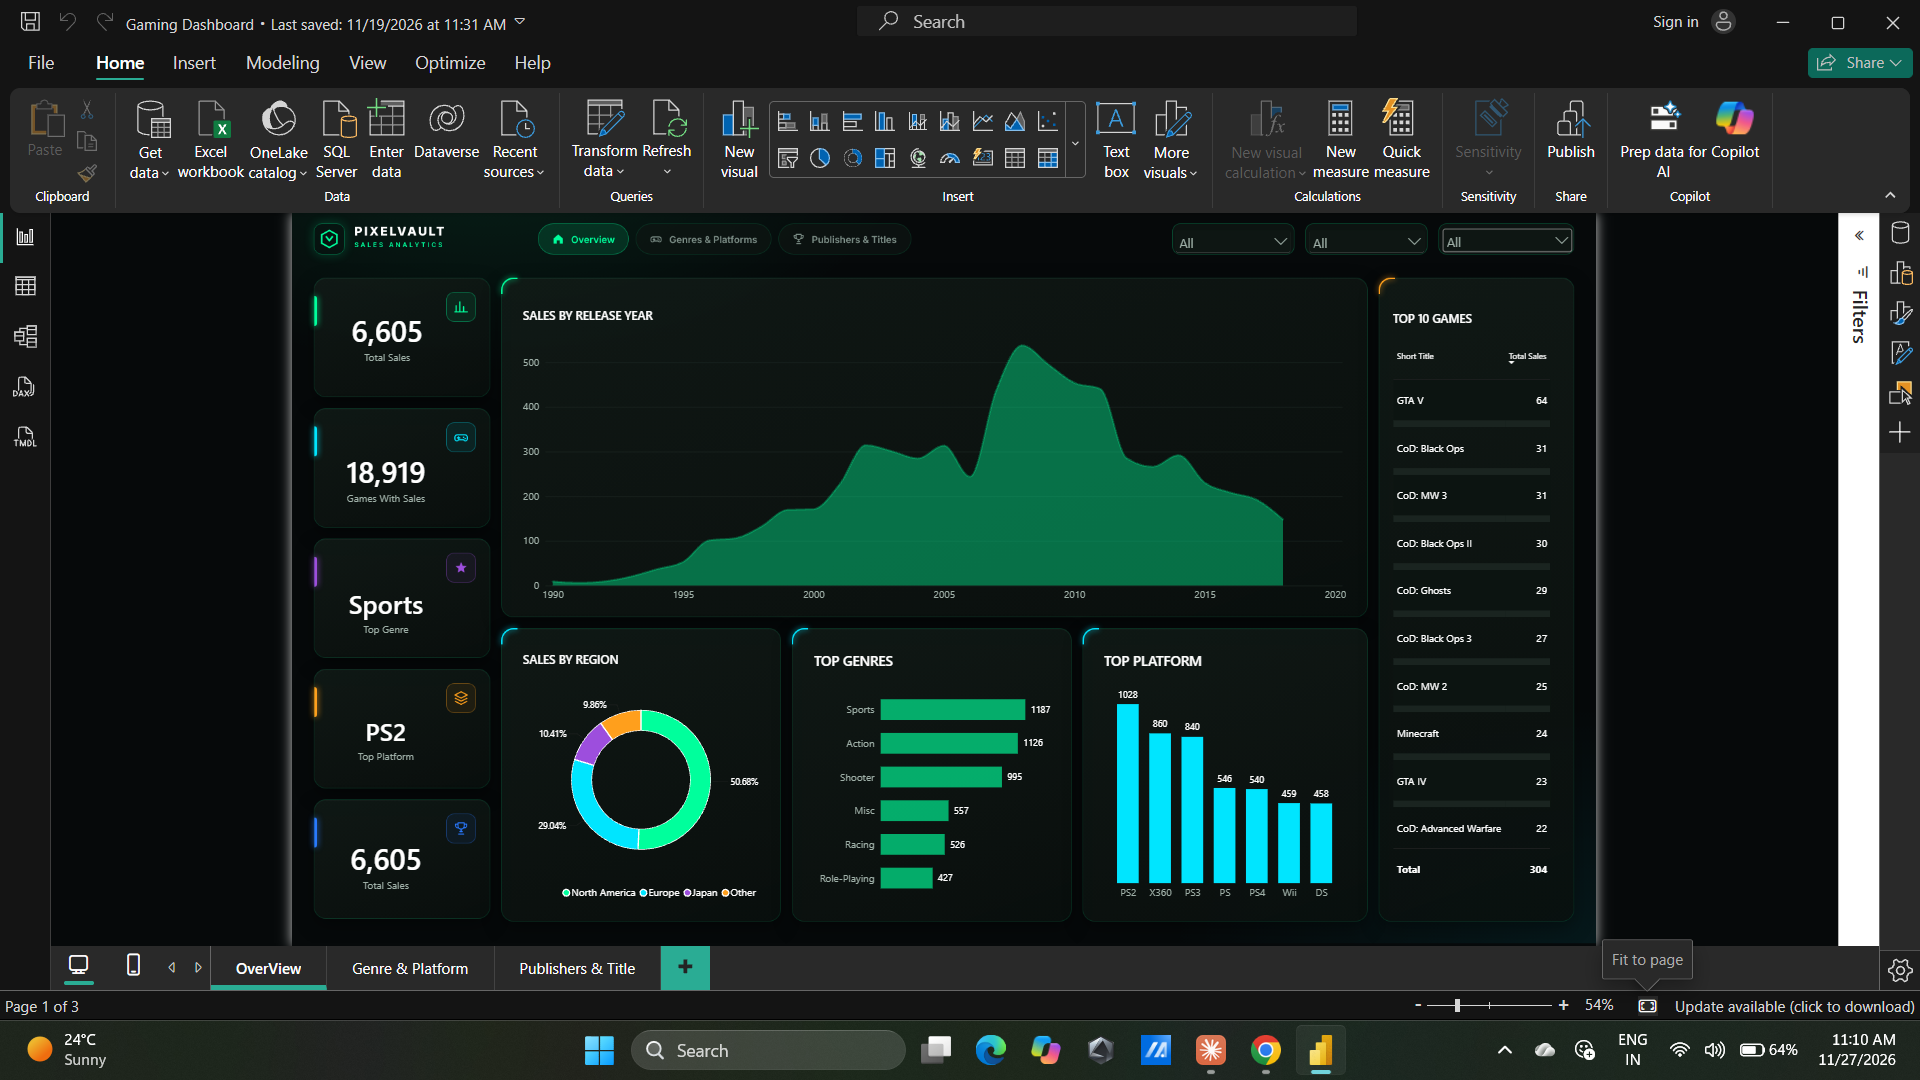

The dashboard page shown, as its layout file describes it:
{"tool":"powerbi","page":{"name":"OverView","canvas":[1920,1080],"ordinal":0},"visuals":[{"type":"card","fields":{"Values":["Measure Table.Total Sales"]},"box":[56,124,170,120],"z":0},{"type":"card","fields":{"Values":["Measure Table.Games With Sales"]},"box":[54.1,331.1,170,120],"z":1000},{"type":"card","fields":{"Values":["Measure Table.Top Genre"]},"box":[54.1,525.9,170,120],"z":2000},{"type":"card","fields":{"Values":["Measure Table.Top Platform"]},"box":[54.1,714.2,170,120],"z":3000},{"type":"card","fields":{"Values":["Measure Table.Total Sales"]},"box":[54.1,900.3,170,120],"z":4000},{"type":"areaChart","title":"SALES BY RELEASE YEAR","fields":{"Category":["DIm_Year.Release Year"],"Y":["Measure Table.Total Sales"]},"box":[324,126,1244,468],"z":5000},{"type":"donutChart","title":"SALES BY REGION","fields":{"Category":["Dim_Region.Region"],"Y":["Measure Table.Region Sales"]},"box":[324,632,380,400],"z":6000},{"type":"clusteredBarChart","title":"TOP GENRES","fields":{"Category":["DIm_Genre.genre"],"Y":["Measure Table.Total Sales"]},"box":[752,632,380,400.4],"z":7000},{"type":"clusteredColumnChart","title":"TOP PLATFORM","fields":{"Category":["DIm_Console.console"],"Y":["Measure Table.Total Sales"]},"box":[1179,632,388,400],"z":8000},{"type":"tableEx","title":"TOP 10 GAMES","fields":{"Values":["Fact_Games.Short Title ","Measure Table.Total Sales"]},"box":[1604.9,128.8,285.3,912.9],"z":9000},{"type":"slicer","fields":{"Values":["DIm_Genre.genre"]},"box":[1296,20,180,46],"z":10000},{"type":"slicer","fields":{"Values":["DIm_Console.console"]},"box":[1492,20.2,180,46],"z":11000},{"type":"slicer","fields":{"Values":["DIm_Year.Release Year"]},"box":[1689.6,18.4,200,46],"z":12000},{"type":"actionButton","box":[363,14,134,46],"z":13000},{"type":"actionButton","box":[514,16,189.6,46],"z":14000},{"type":"actionButton","box":[716,18.4,193.3,46],"z":15000}]}

Visuals, with their boxes on the page's 1920x1080 design canvas (x1, y1, x2, y2). These are canvas units, not pixel positions in the 1920x1080 screenshot, which may show the page scaled, cropped or inside an application window:
card - Measure Table.Total Sales: <region>56, 124, 226, 244</region>
card - Measure Table.Games With Sales: <region>54, 331, 224, 451</region>
card - Measure Table.Top Genre: <region>54, 526, 224, 646</region>
card - Measure Table.Top Platform: <region>54, 714, 224, 834</region>
card - Measure Table.Total Sales: <region>54, 900, 224, 1020</region>
"SALES BY RELEASE YEAR" areaChart: <region>324, 126, 1568, 594</region>
"SALES BY REGION" donutChart: <region>324, 632, 704, 1032</region>
"TOP GENRES" clusteredBarChart: <region>752, 632, 1132, 1032</region>
"TOP PLATFORM" clusteredColumnChart: <region>1179, 632, 1567, 1032</region>
"TOP 10 GAMES" tableEx: <region>1605, 129, 1890, 1042</region>
slicer - DIm_Genre.genre: <region>1296, 20, 1476, 66</region>
slicer - DIm_Console.console: <region>1492, 20, 1672, 66</region>
slicer - DIm_Year.Release Year: <region>1690, 18, 1890, 64</region>
actionButton: <region>363, 14, 497, 60</region>
actionButton: <region>514, 16, 704, 62</region>
actionButton: <region>716, 18, 909, 64</region>
